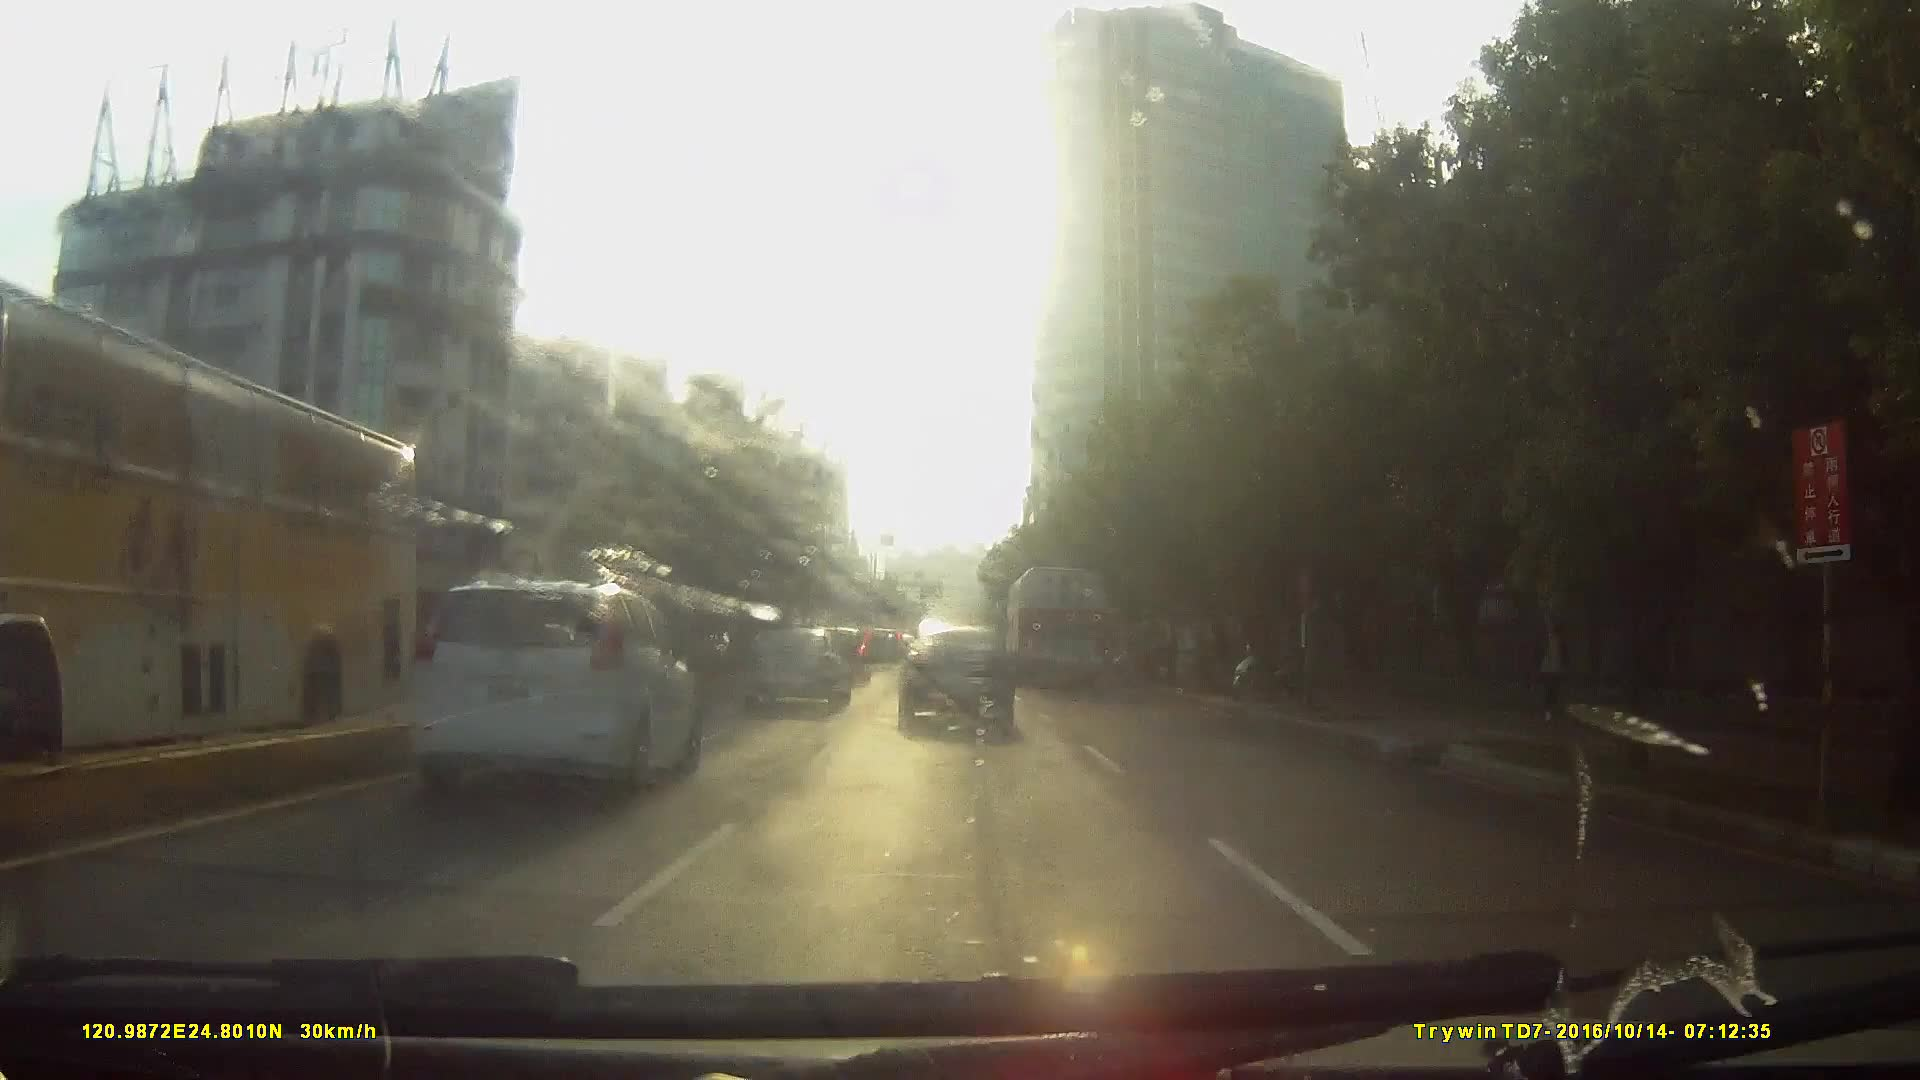pedestrian: (1512, 593, 1577, 723)
vehicle: (1, 282, 469, 826), (250, 556, 684, 868), (403, 567, 698, 804), (1008, 561, 1113, 687), (892, 616, 1012, 726), (740, 620, 848, 704), (866, 638, 915, 687)
